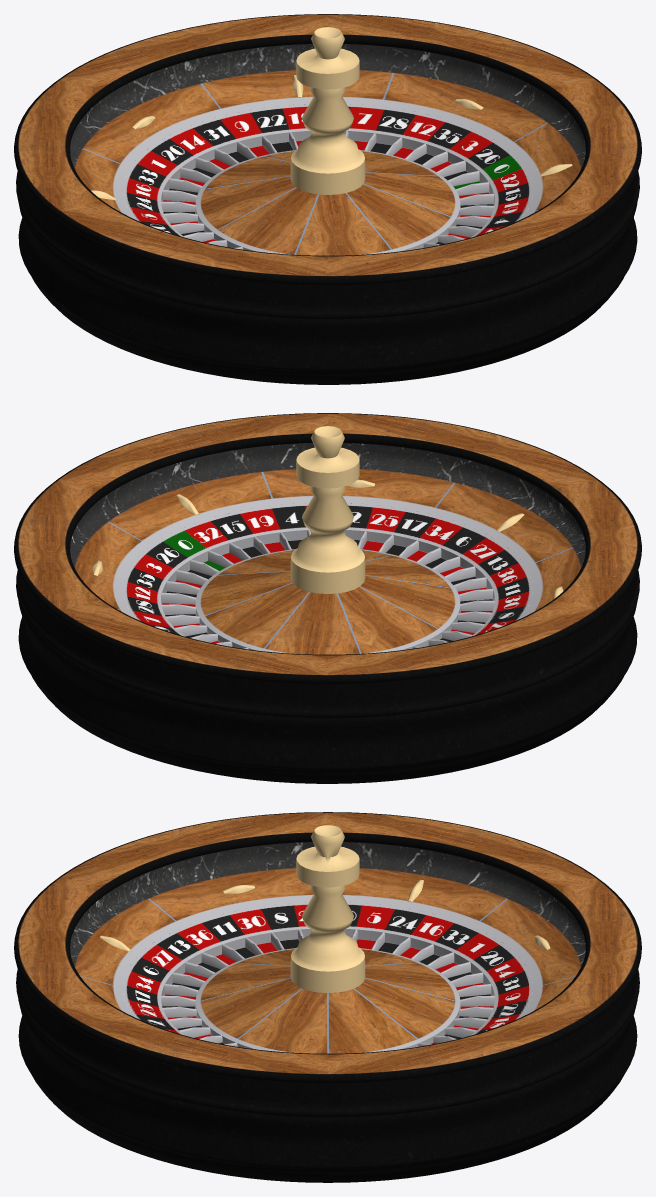
File: roulette-wheel-v2.glb
3 renders of one model, top to bottom at view 1: azimuth 30°, elevation 25°; view 2: azimuth 150°, elevation 25°; view 3: azimuth 270°, elevation 25°, orthographic.
Parts seen in each view (by area): view 1: geo1; view 2: geo1; view 3: geo1.
Part boxes in pixels (x1,y1,x2,y2): geo1: (14, 14, 641, 384); geo1: (14, 413, 641, 783); geo1: (14, 812, 641, 1182).
Size of the model in its own units: 0.00839 by 0.00336 by 0.00839.
3 materials, 3 textured.
